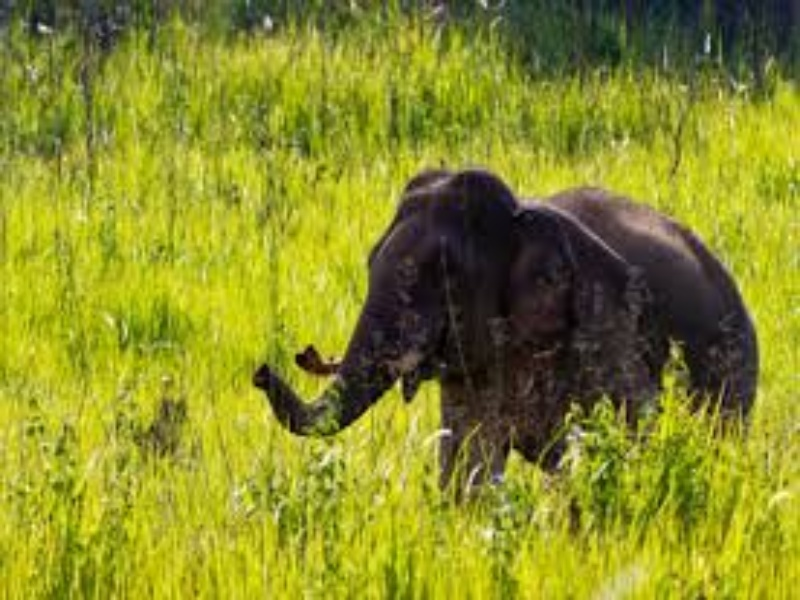elephant: (250, 142, 749, 529)
